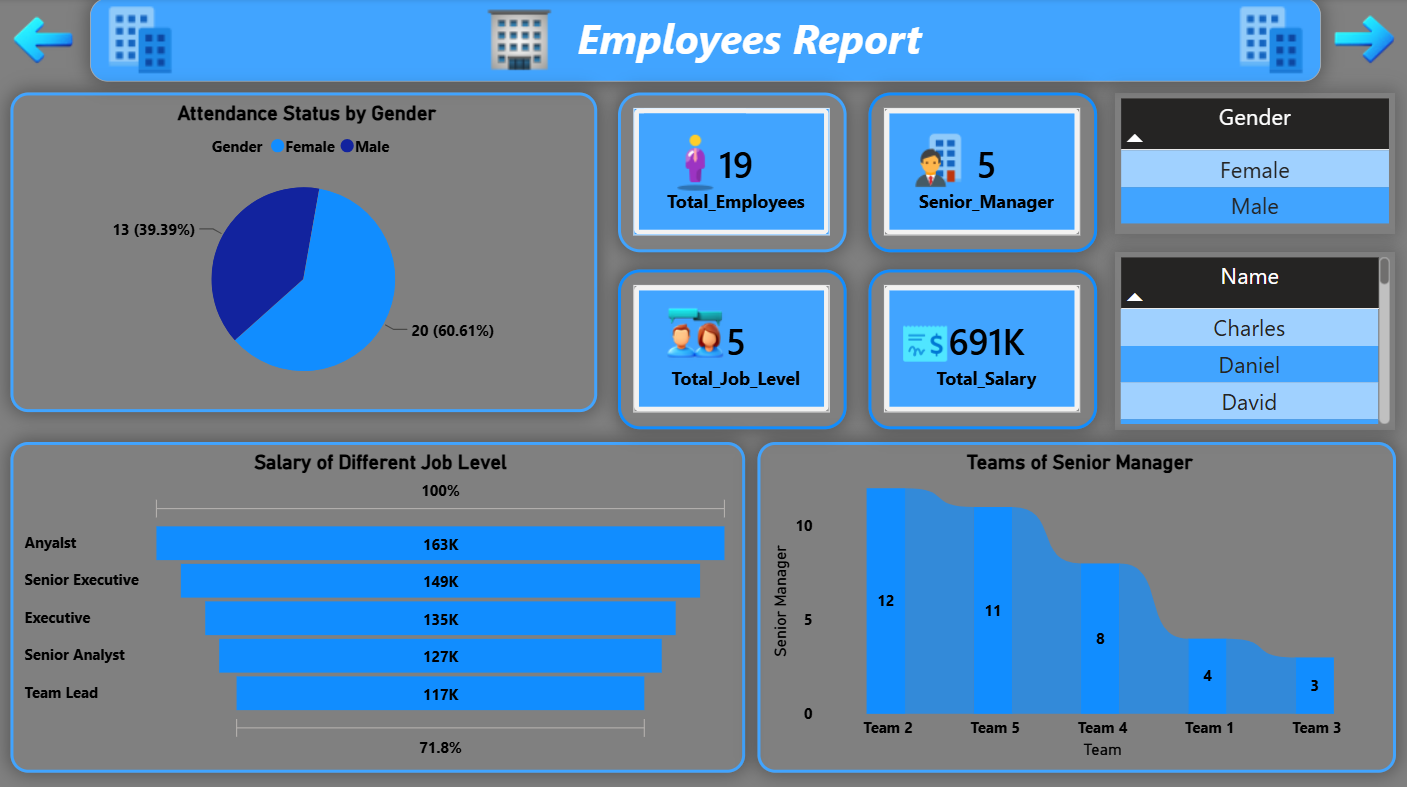

The dashboard page shown, as its layout file describes it:
{"tool":"powerbi","page":{"name":"Dashboard","canvas":[1280,720],"ordinal":1},"visuals":[{"type":"textbox","box":[86.7,0,1109.3,75.1],"z":0},{"type":"pieChart","title":"Attendance Status by Gender","fields":{"Category":["Data.Gender"],"Y":["Sum(Data.Attendance Status)"]},"box":[15.1,84.8,528.5,287.7],"z":1000},{"type":"funnel","title":"Salary of Different Job Level","fields":{"Y":["Sum(Data.Salary)"],"Category":["Data.Job Level"]},"box":[15.1,399.8,661.7,298.3],"z":2000},{"type":"ribbonChart","title":"Teams of Senior Manager","fields":{"Category":["Data.Team"],"Y":["CountNonNull(Data.Senior Manager)"]},"box":[687.4,399.8,575.4,298.3],"z":3000},{"type":"tableEx","fields":{"Values":["Data.Gender"]},"box":[1010,84.8,252.9,127.2],"z":4000},{"type":"tableEx","fields":{"Values":["Data.Name"]},"box":[1010,228.6,252.9,160.5],"z":5000},{"type":"cardVisual","fields":{"Data":["Sum(Data.Salary)"]},"box":[787.4,245.3,205.9,143.8],"z":6000},{"type":"cardVisual","fields":{"Data":["Count(Data.Senior Manager)"]},"box":[787.4,84.8,205.9,143.8],"z":7000},{"type":"cardVisual","fields":{"Data":["Count(Data.Name)"]},"box":[561.8,84.8,205.9,143.8],"z":8000},{"type":"cardVisual","fields":{"Data":["Count(Data.Job Level)"]},"box":[561.8,245.3,205.9,143.8],"z":9000},{"type":"image","box":[86.7,0,90.5,75.1],"z":10000},{"type":"image","box":[427.5,0,92.4,75.1],"z":11000},{"type":"image","box":[1105.4,0,90.5,75.1],"z":12000},{"type":"image","box":[586,119.6,90.9,54.5],"z":13000},{"type":"image","box":[805.6,119.6,90.9,54.5],"z":14000},{"type":"image","box":[816.2,262,45.4,98.4],"z":15000},{"type":"image","box":[586,277.1,90.9,54.5],"z":16000},{"type":"image","box":[14.9,0,58.1,75.7],"z":19500},{"type":"image","box":[1205.7,0,58.1,75.7],"z":20000}]}

Visuals, with their boxes in screenshot pixels (x1, y1, x2, y2), scaled from the page's 1280x720 canvas onto the 1407x787 screenshot:
textbox: 95, 0, 1315, 82
"Attendance Status by Gender" pieChart: 17, 93, 598, 407
"Salary of Different Job Level" funnel: 17, 437, 744, 763
"Teams of Senior Manager" ribbonChart: 756, 437, 1388, 763
tableEx - Data.Gender: 1110, 93, 1388, 232
tableEx - Data.Name: 1110, 250, 1388, 425
cardVisual - Sum(Data.Salary): 866, 268, 1092, 425
cardVisual - Count(Data.Senior Manager): 866, 93, 1092, 250
cardVisual - Count(Data.Name): 618, 93, 844, 250
cardVisual - Count(Data.Job Level): 618, 268, 844, 425
image: 95, 0, 195, 82
image: 470, 0, 571, 82
image: 1215, 0, 1315, 82
image: 644, 131, 744, 190
image: 886, 131, 985, 190
image: 897, 286, 947, 394
image: 644, 303, 744, 362
image: 16, 0, 80, 83
image: 1325, 0, 1389, 83
